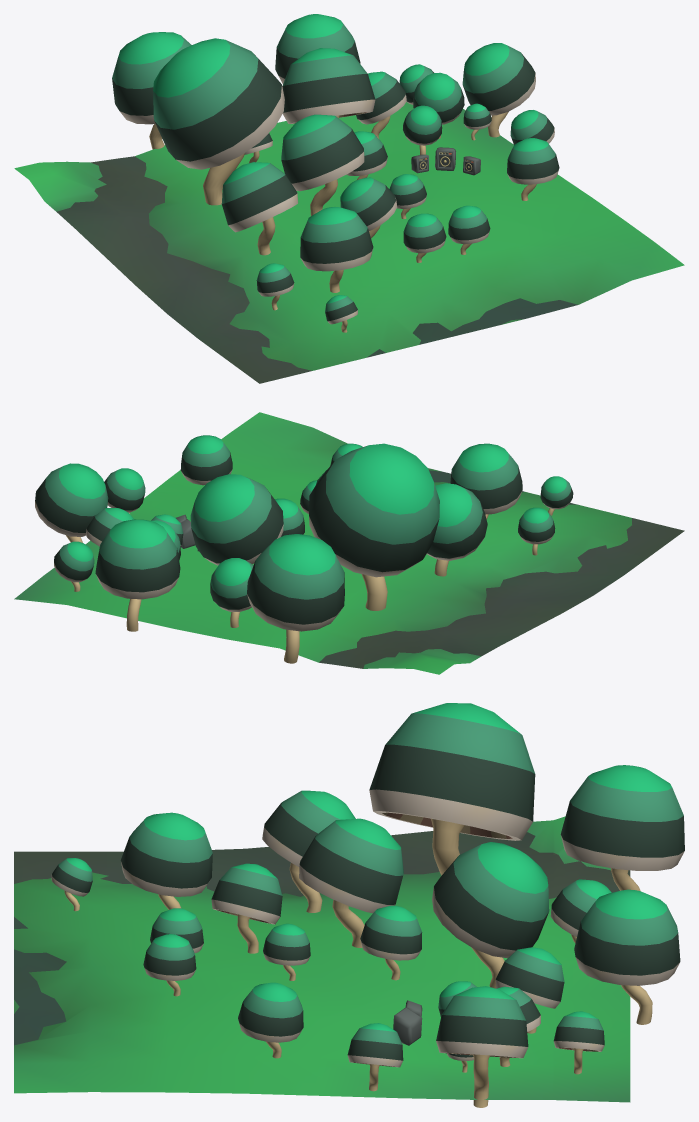
Rendered from LevelC3.fbx.
The picture shows the model from 3 angles, top to bottom: view 1: azimuth 30°, elevation 25°; view 2: azimuth 150°, elevation 25°; view 3: azimuth 270°, elevation 25°; orthographic projection. The views are drawn at different scales.
Parts seen in each view (by area): view 1: GroundC3, MushroomA.030, MushroomA.034, MushroomA.029, MushroomB.021, MushroomA.031, MushroomA.036, MushroomB.029, MushroomB.037, MushroomB.033, MushroomA.032, MushroomA.043 (+11 smaller); view 2: GroundC3, MushroomA.030, MushroomB.021, MushroomA.034, MushroomB.037, MushroomA.036, MushroomB.029, MushroomA.031, MushroomB.033, MushroomA.038, MushroomA.035, MushroomA.041 (+4 smaller); view 3: GroundC3, MushroomA.030, MushroomB.021, MushroomA.034, MushroomB.037, MushroomA.029, MushroomB.029, MushroomA.036, MushroomA.031, MushroomA.032, MushroomB.033, MushroomB.035 (+10 smaller).
Boxes of the visible parts, box(x1,y1,x2,y2) form: GroundC3: box(14, 102, 684, 383); MushroomA.030: box(153, 38, 284, 205); MushroomA.034: box(282, 48, 375, 123); MushroomA.029: box(281, 114, 364, 215); MushroomB.021: box(112, 32, 191, 149); MushroomA.031: box(221, 162, 298, 255); MushroomA.036: box(462, 43, 535, 137); MushroomB.029: box(300, 207, 373, 292); MushroomB.037: box(275, 14, 360, 83); MushroomB.033: box(507, 138, 559, 200); MushroomA.032: box(340, 177, 397, 238); MushroomA.043: box(413, 72, 464, 138); GroundC3: box(14, 412, 684, 674); MushroomA.030: box(309, 443, 439, 610); MushroomB.021: box(247, 534, 344, 663); MushroomA.034: box(190, 474, 283, 565); MushroomB.037: box(95, 519, 180, 631); MushroomA.036: box(35, 463, 108, 542); MushroomB.029: box(450, 443, 522, 519); MushroomA.031: box(426, 483, 487, 576); MushroomB.033: box(180, 435, 232, 485); MushroomA.038: box(210, 558, 253, 627); MushroomA.035: box(104, 468, 145, 513); MushroomA.041: box(54, 541, 94, 591); GroundC3: box(14, 816, 630, 1102); MushroomA.030: box(369, 703, 535, 875); MushroomB.021: box(560, 765, 684, 890); MushroomA.034: box(432, 842, 549, 988); MushroomB.037: box(574, 889, 680, 1024); MushroomA.029: box(299, 818, 403, 947); MushroomB.029: box(120, 812, 212, 909); MushroomA.036: box(436, 986, 528, 1107); MushroomA.031: box(262, 790, 355, 912); MushroomA.032: box(211, 863, 282, 953); MushroomB.033: box(238, 982, 303, 1058); MushroomB.035: box(360, 905, 422, 980).
Size of the model in its own units: 9759 by 3602 by 9860.
